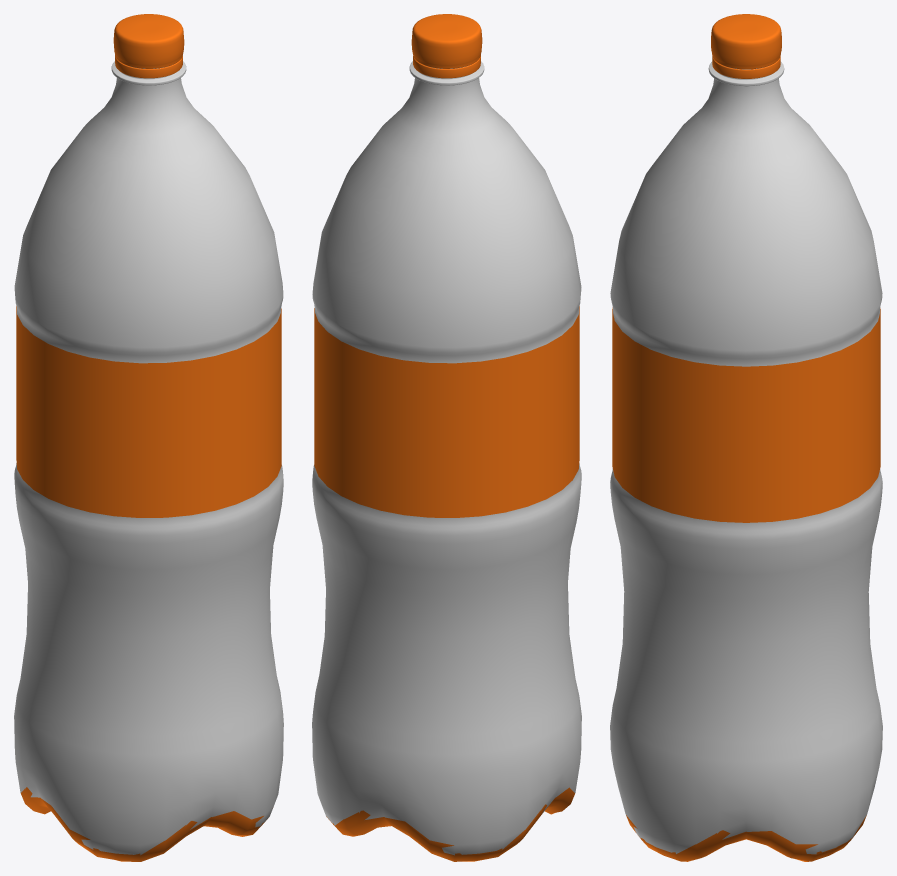
Rendered from Botella gaseosa.fbx.
3 views of the same model, side by side, from view 1: azimuth 30°, elevation 25°; view 2: azimuth 150°, elevation 25°; view 3: azimuth 270°, elevation 25° (orthographic).
Visible parts, largest first — view 1: Colombiana 1.5L; view 2: Colombiana 1.5L; view 3: Colombiana 1.5L.
Part boxes in pixels (x1,y1,x2,y2): Colombiana 1.5L: (14,14,283,861); Colombiana 1.5L: (312,14,581,861); Colombiana 1.5L: (610,14,882,861).
Bounding box in the file's own units: 11.8 × 38.12 × 11.8.
